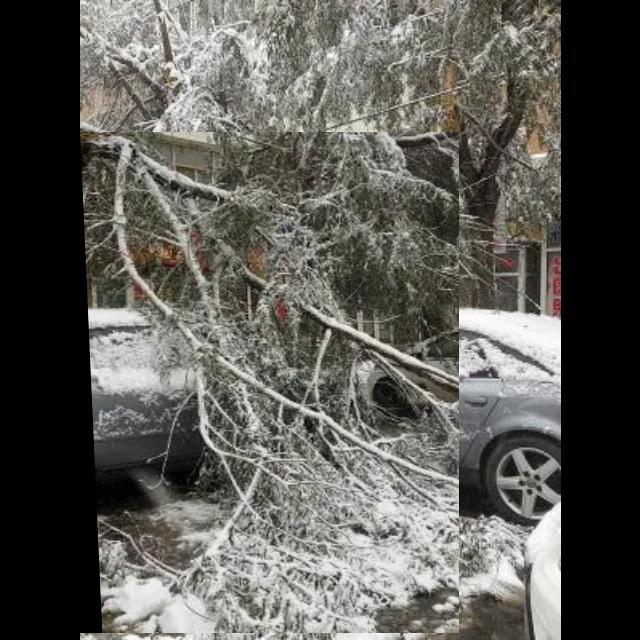fallen_tree: (80, 132, 460, 634)
